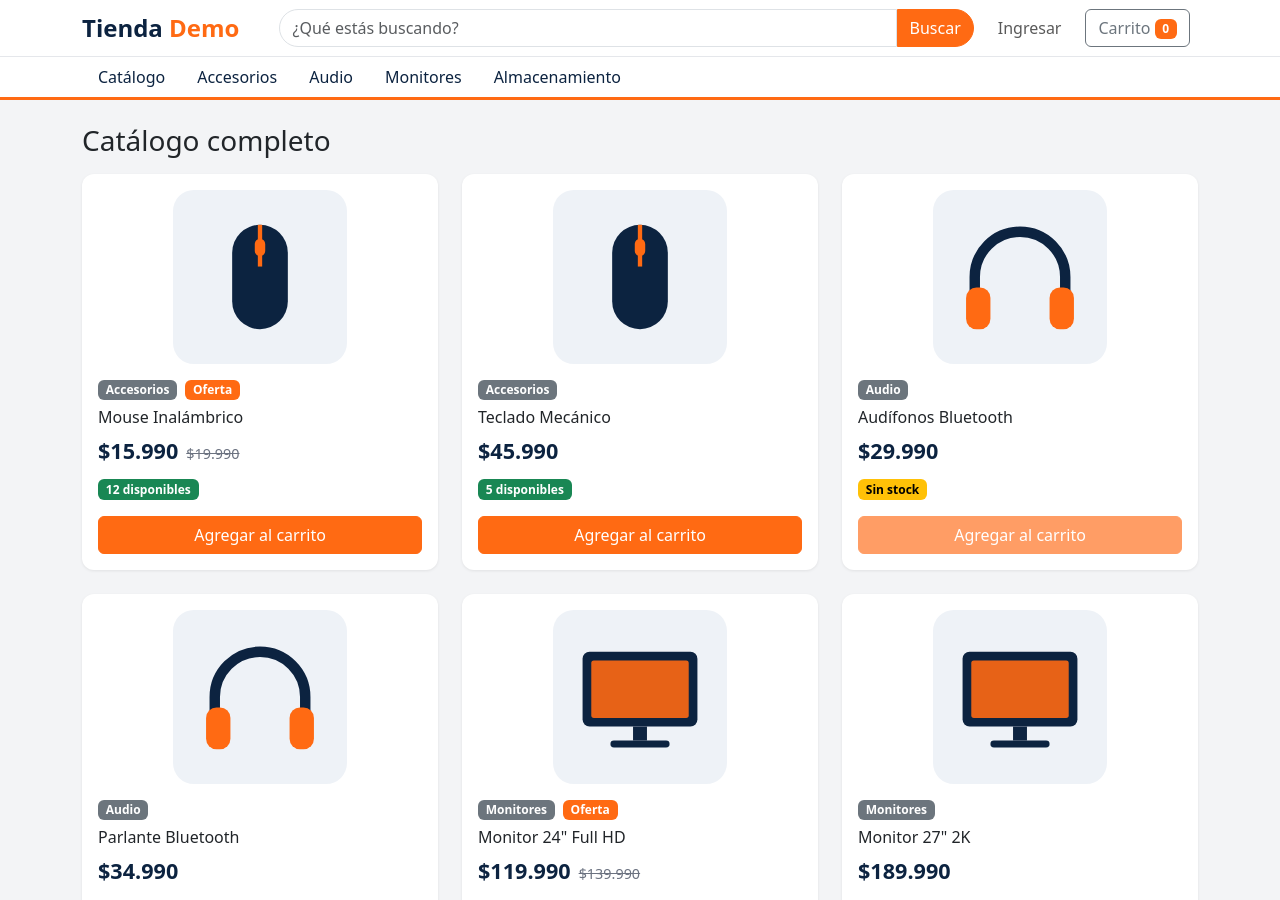
flujo de compra (App) › agrega un producto al carrito y actualiza el contador y el total
Expected: the link with aria-label "carrito: 0 artículos" is shown, [1086,9,1190,47]
Click the button "Agregar al carrito" below "$15.990" at (260, 535), box [98,516,422,554]
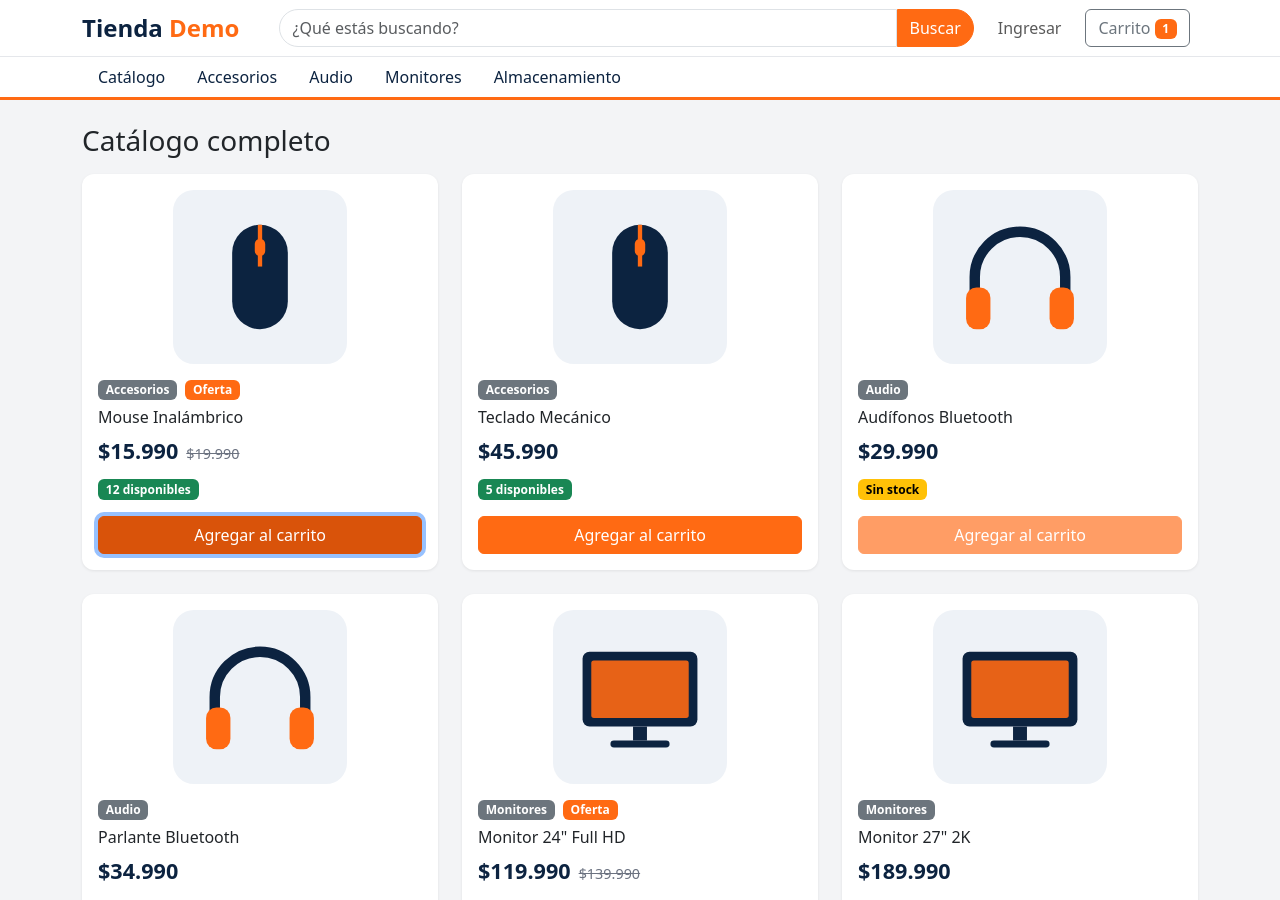
Now the link with aria-label "carrito: 1 artículos" is shown
Click the link with aria-label "carrito: 1 artículos" at (1138, 28), box [1086,9,1190,47]
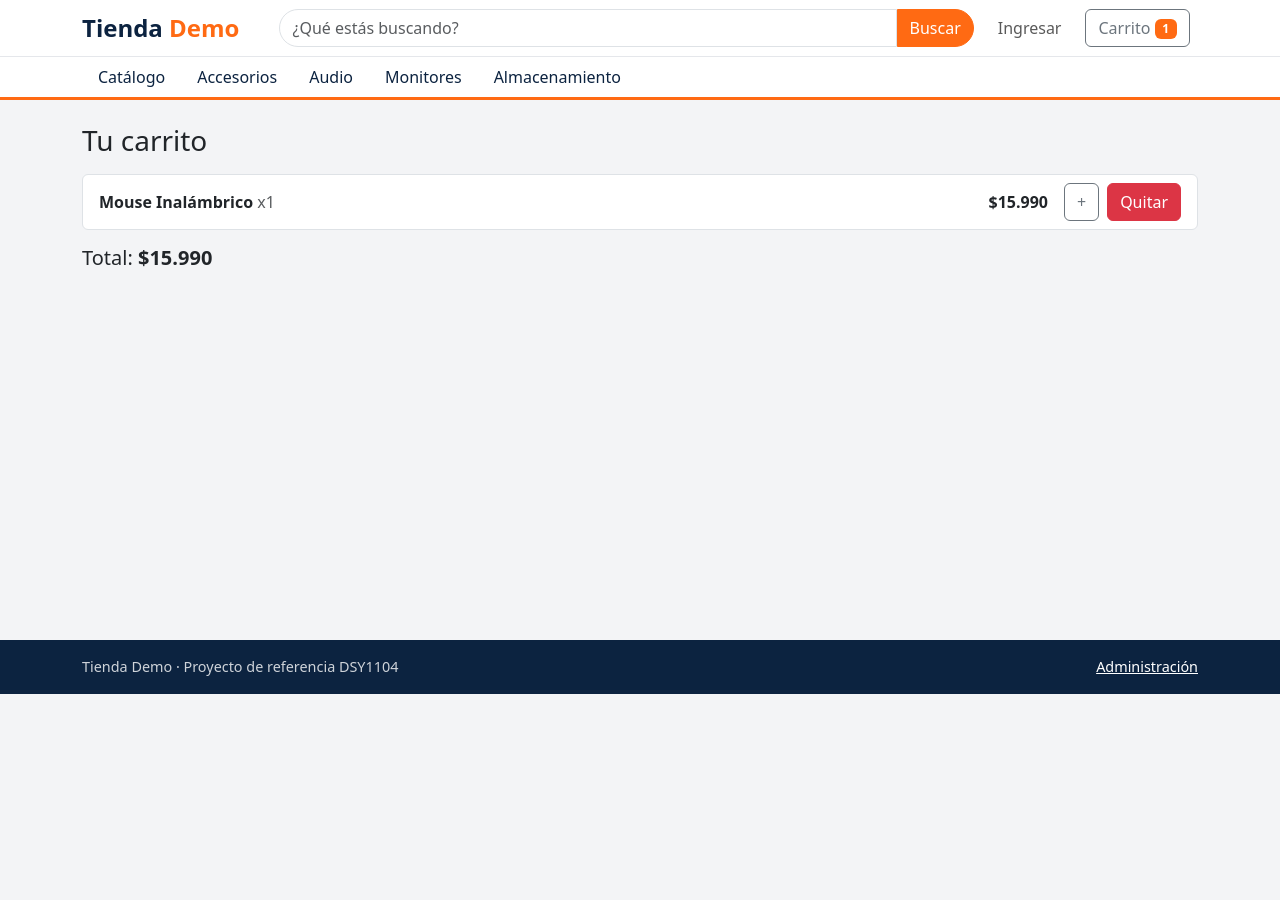
Expected: the text "Mouse Inalámbrico" is shown, [99,191,253,213]
Now the text "x1" is shown, box [257,191,275,213]
Now the text "$15.990" next to "Total:" is shown, box [138,244,212,271]
